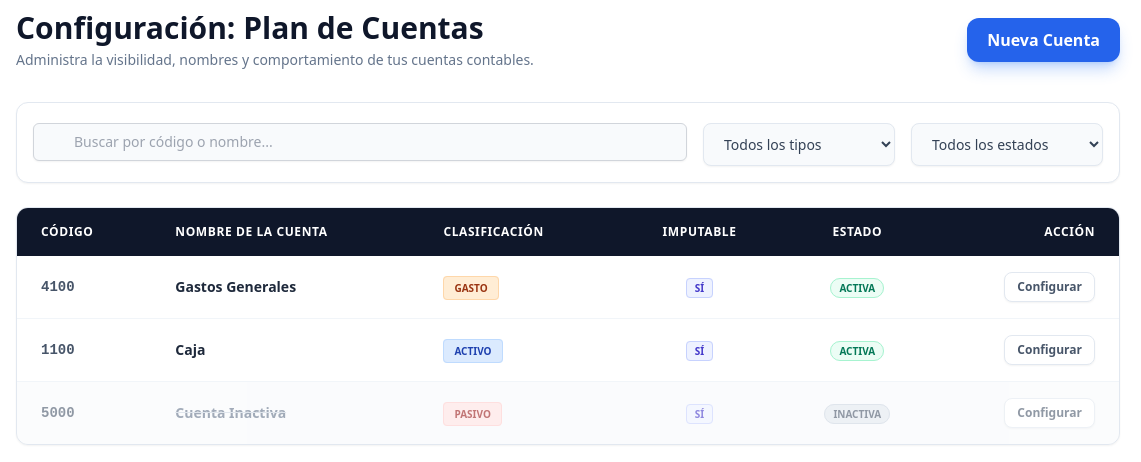
AdministradorCuentas › filtros › filtro de búsqueda por nombre filtra cuentas
In the field with placeholder "Buscar por código o nombre...": (360, 142) [33,123,687,161], type "Caja"
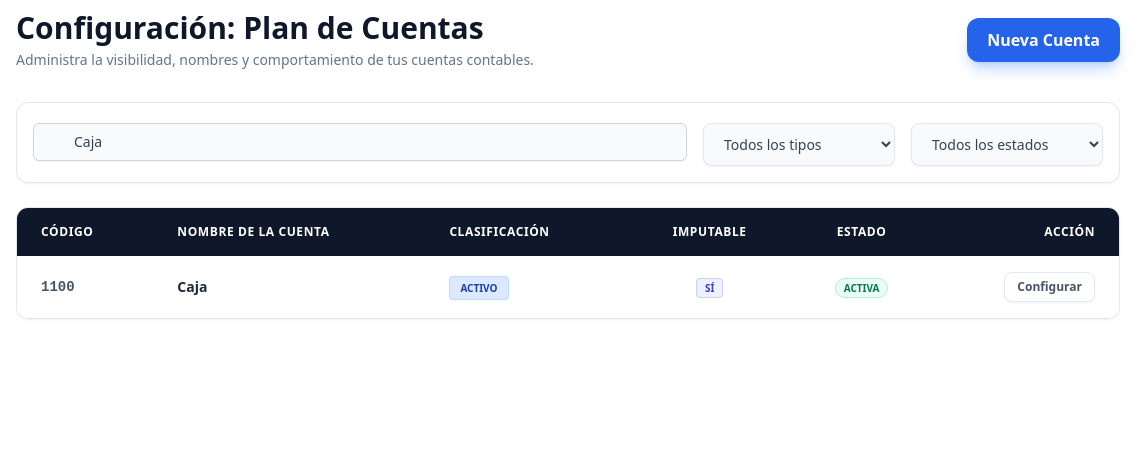
Now the text "Gastos Generales" is not shown
